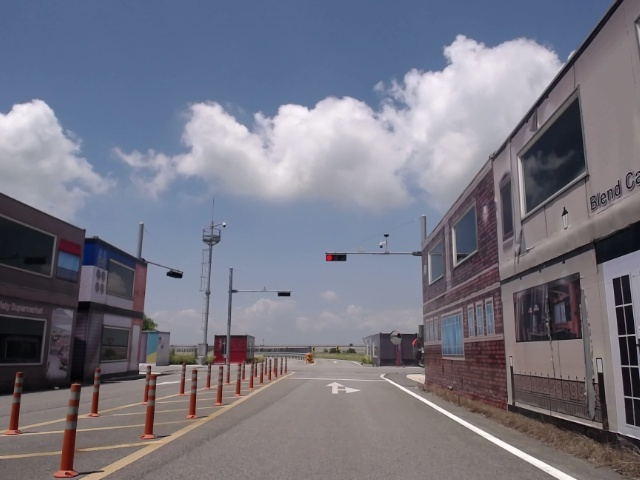red_3: (324, 253, 348, 262)
